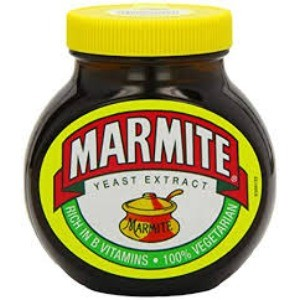yeast spread_brain food: (21, 69, 274, 234)
